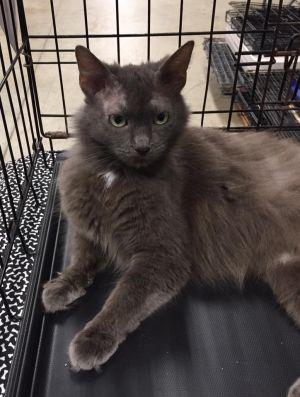rblue: (67, 25, 203, 186)
